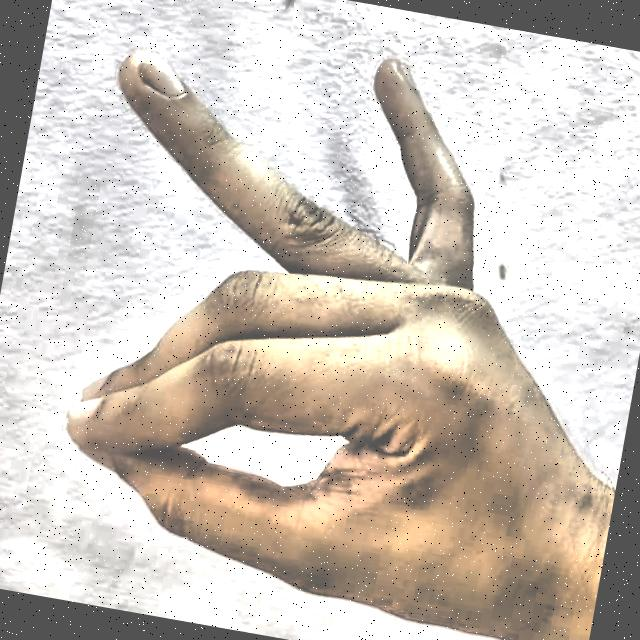Na: (2, 0, 619, 640)
